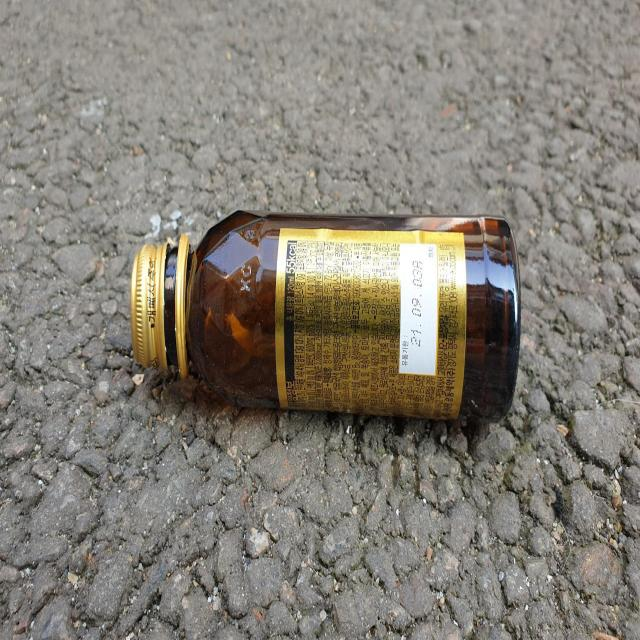glass: (131, 210, 521, 420)
